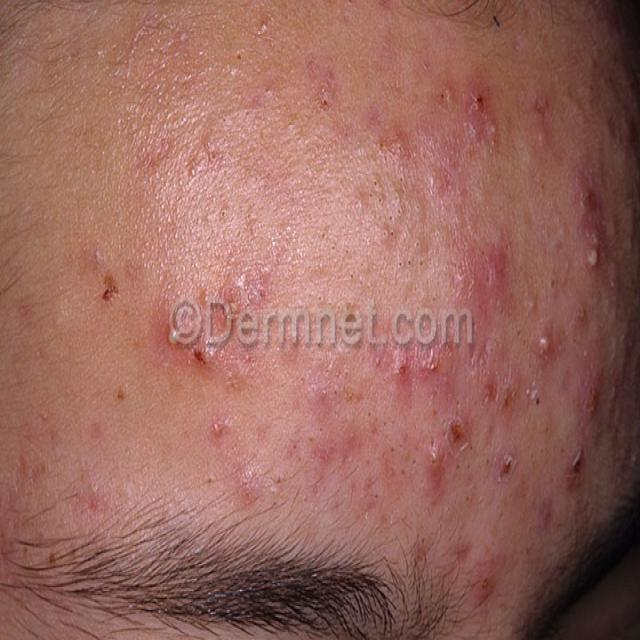Acne: (466, 81, 502, 150), (576, 163, 604, 229), (478, 245, 508, 297), (578, 360, 604, 420), (482, 370, 518, 412), (487, 440, 517, 488), (443, 408, 472, 456), (563, 442, 587, 495), (416, 344, 446, 380), (533, 325, 558, 368), (96, 269, 122, 310), (474, 558, 497, 604), (424, 436, 445, 486), (186, 345, 221, 373), (390, 344, 414, 384), (206, 412, 230, 448), (582, 238, 602, 273)
